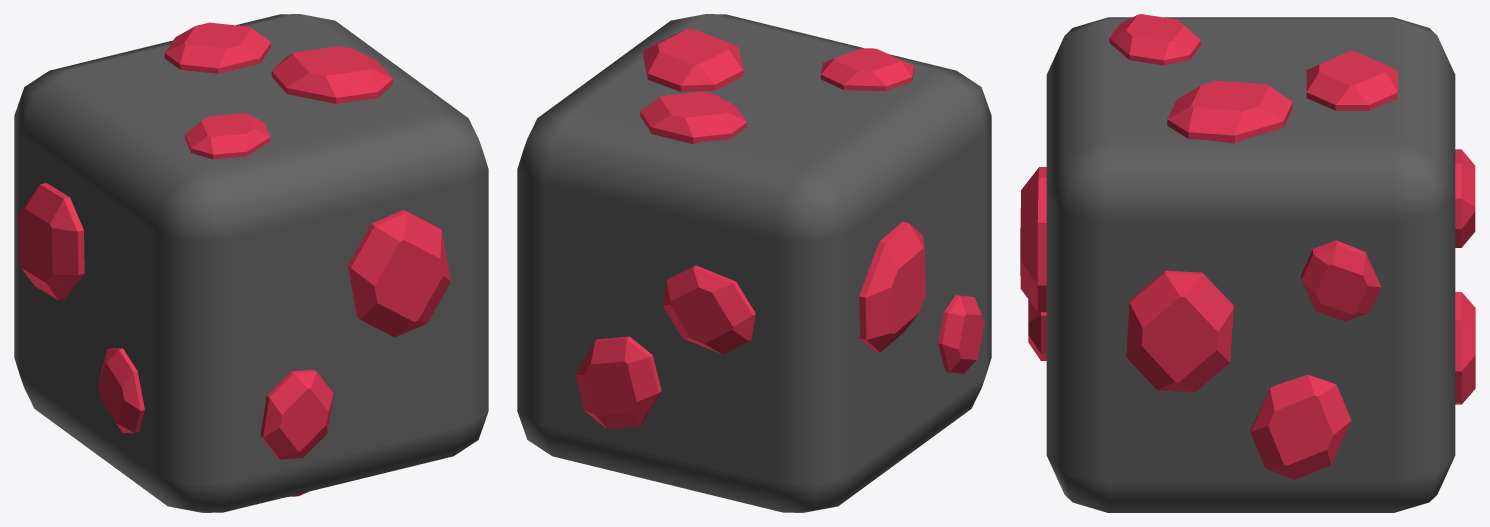
File: SM_Ruby.fbx
The picture shows the model from 3 angles, left to right: view 1: azimuth 30°, elevation 25°; view 2: azimuth 150°, elevation 25°; view 3: azimuth 270°, elevation 25°; orthographic projection. The views are drawn at different scales.
Parts seen in each view (by area): view 1: Cube.007; view 2: Cube.007; view 3: Cube.007.
Boxes of the visible parts, bbox=[...] form: Cube.007: bbox=[14, 14, 488, 512]; Cube.007: bbox=[517, 14, 991, 512]; Cube.007: bbox=[1020, 14, 1475, 512].
Bounding box in the file's own units: 224 × 222 × 223.
